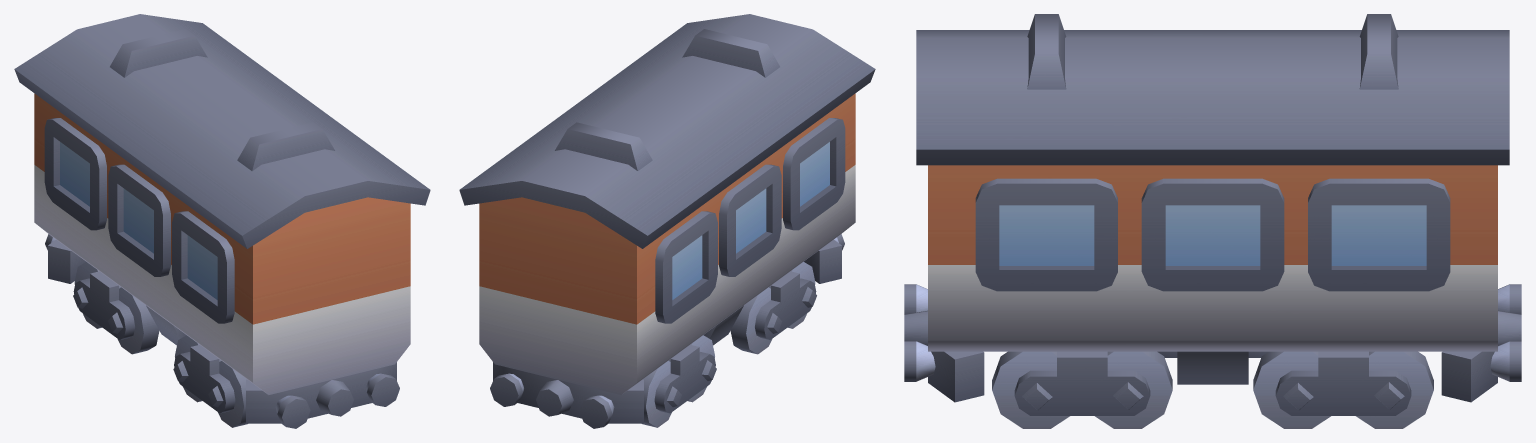
The model's file is persontag.glb.
3 renders of one model, left to right at view 1: azimuth 30°, elevation 25°; view 2: azimuth 150°, elevation 25°; view 3: azimuth 270°, elevation 25°, orthographic. The views are drawn at different scales.
Visible parts, largest first — view 1: train-locomotive-passenger-a, wheels-back, wheels-front; view 2: train-locomotive-passenger-a, wheels-front, wheels-back; view 3: train-locomotive-passenger-a, wheels-front, wheels-back.
Boxes of the visible parts, x1,y1,x2,y2 form: train-locomotive-passenger-a: [14, 14, 430, 428]; wheels-back: [73, 262, 159, 354]; wheels-front: [173, 335, 247, 427]; train-locomotive-passenger-a: [459, 14, 875, 428]; wheels-front: [730, 262, 816, 354]; wheels-back: [642, 335, 716, 427]; train-locomotive-passenger-a: [904, 14, 1521, 402]; wheels-front: [992, 351, 1172, 428]; wheels-back: [1253, 351, 1433, 428].
Size of the model in its own units: 1.19 by 1.65 by 2.6.
1 material, 1 textured.
